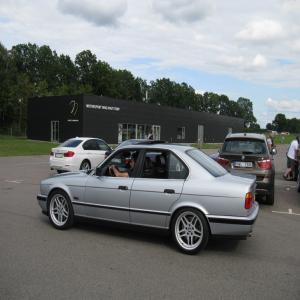Vehicle-registration-plate: (235, 163, 254, 169)
